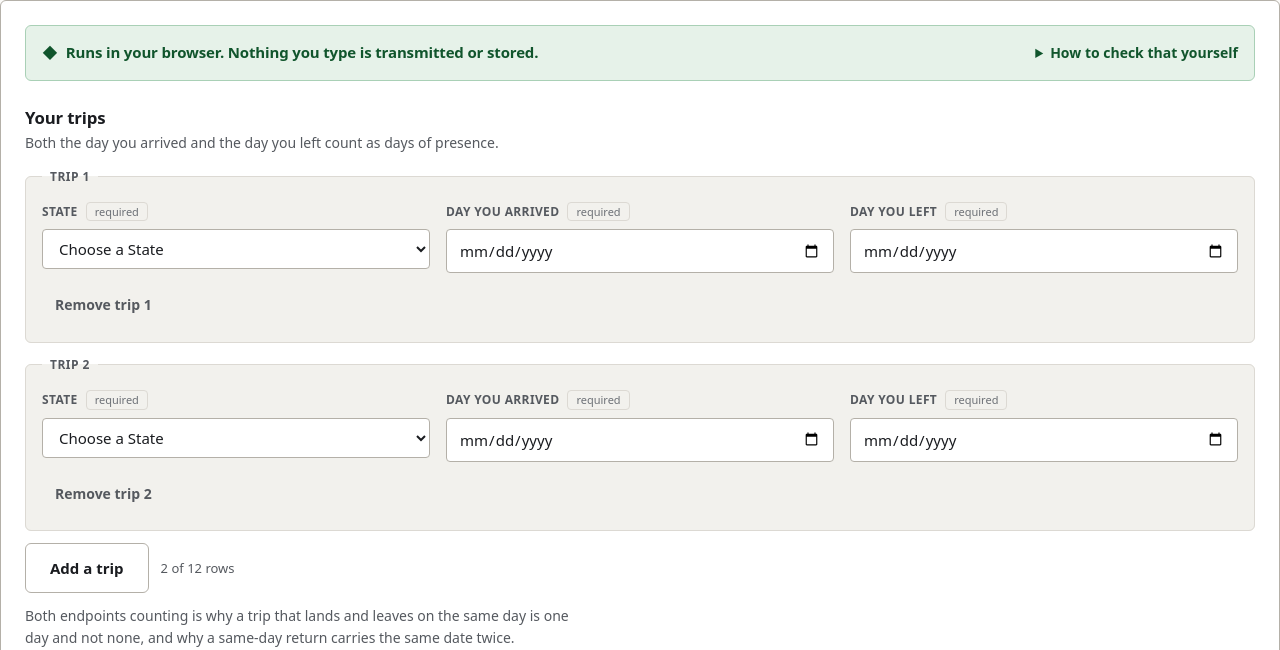
it: every control is announced properly › associates an error with its control, and marks the control invalid
Select "Spain" in the 1st dropdown labelled "State required" at {"x": 236, "y": 249}, box [42,229,430,269]
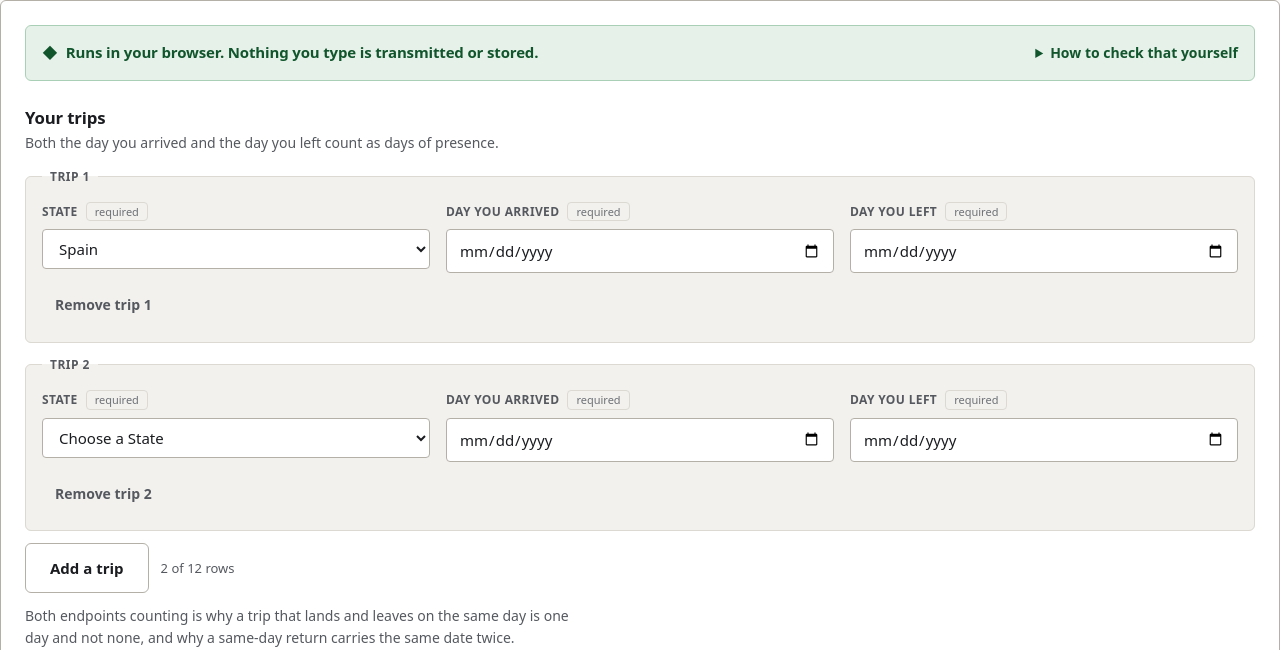
Type "2026-07-01" into the 1st date field labelled "Day you left required".
click(1044, 251); type("2026-07-01")  # box [850,229,1238,273]
(page scrolled)
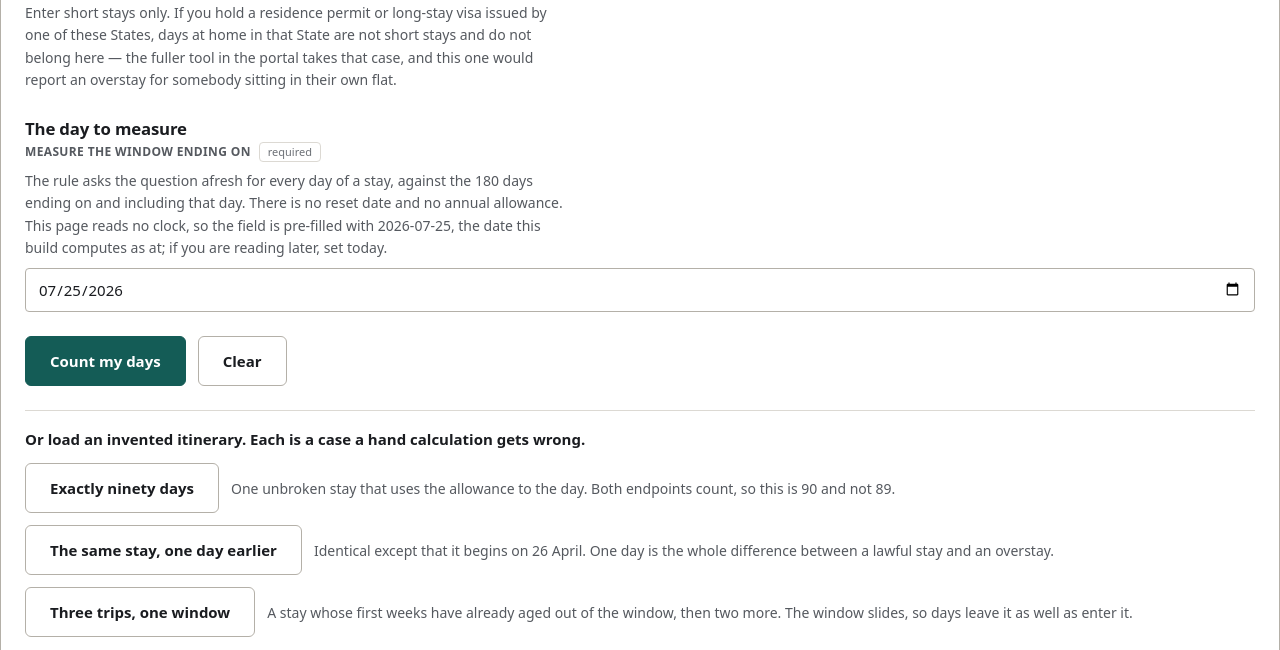
Click the button "Count my days".
click(105, 360)  # box [25,336,186,386]
(page scrolled)
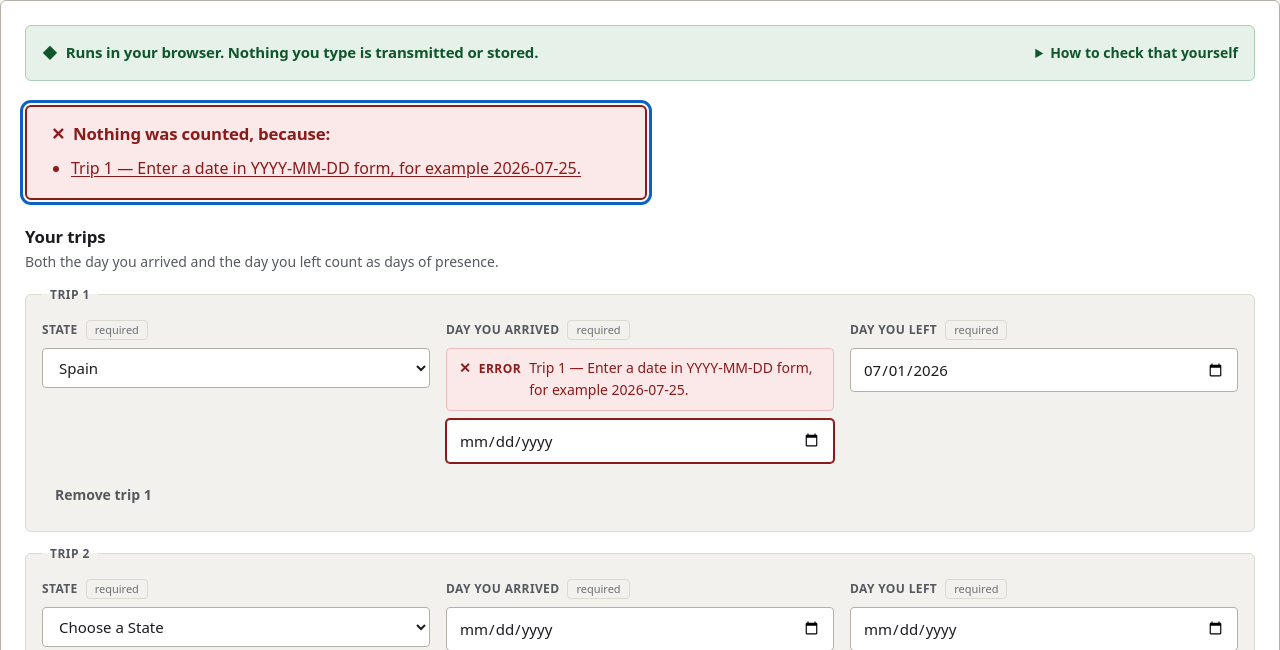
expect the element that starts with "Error" shows "Trip 1": met, box [529,358,813,399]
expect the element that starts with "Error" shows "YYYY-MM-DD": met, box [529,358,813,399]
expect the element that starts with "Error" is shown: met, box [479,360,521,377]
